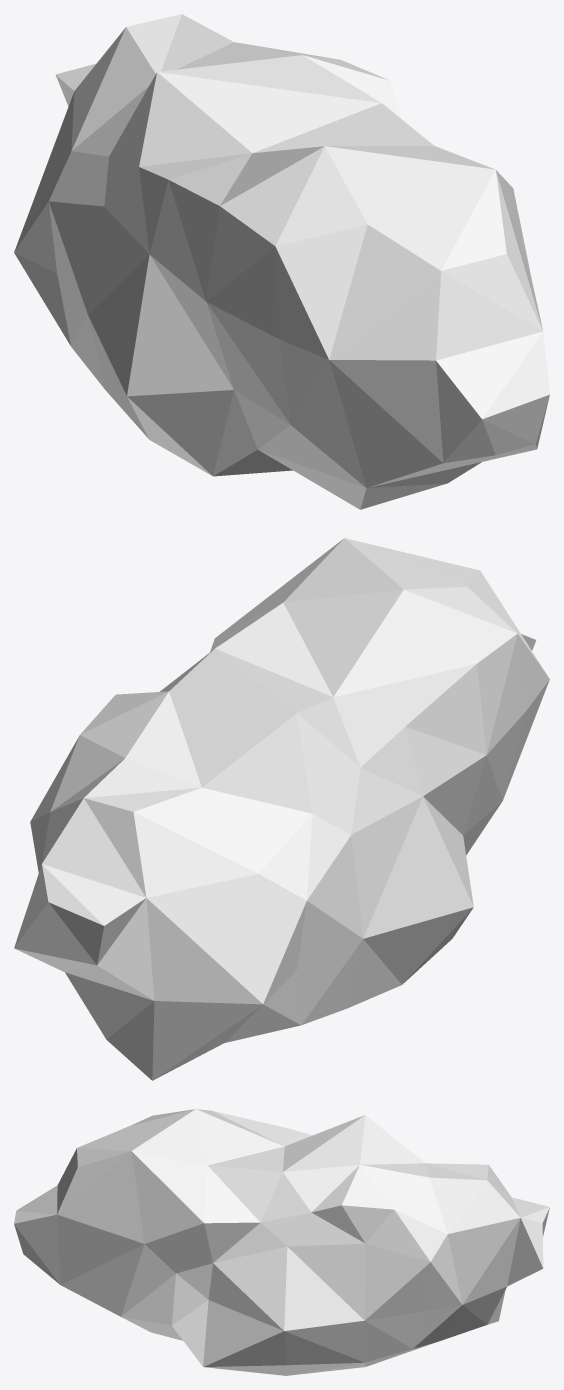
File: Env_Cloud01.fbx
3 renders of one model, top to bottom at view 1: azimuth 30°, elevation 25°; view 2: azimuth 150°, elevation 25°; view 3: azimuth 270°, elevation 25°, orthographic. The views are drawn at different scales.
Visible parts, largest first — view 1: Env_Cloud01; view 2: Env_Cloud01; view 3: Env_Cloud01.
Part boxes in pixels (<box>): Env_Cloud01: <box>14,14,549,509</box>; Env_Cloud01: <box>14,538,549,1080</box>; Env_Cloud01: <box>14,1109,549,1375</box>.
Bounding box in the file's own units: 617 × 1226 × 594.
